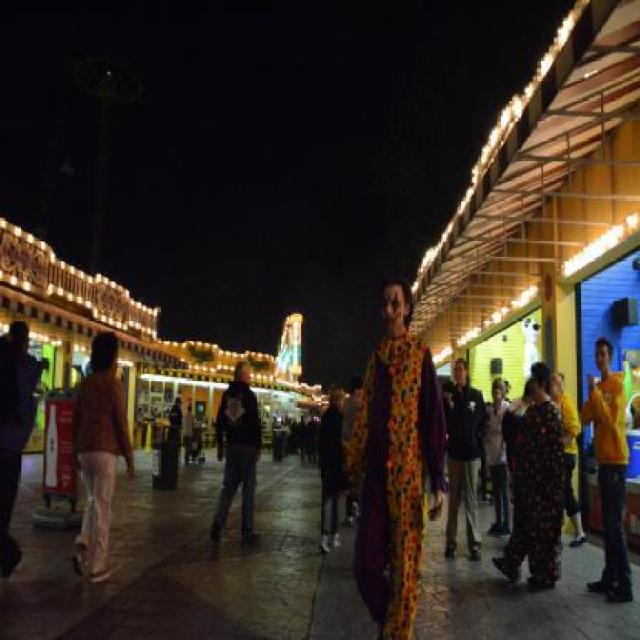Person: (273, 278, 587, 639), (71, 334, 135, 584), (583, 329, 632, 596), (1, 320, 41, 582), (209, 358, 263, 545), (170, 394, 184, 448), (183, 403, 194, 463)
